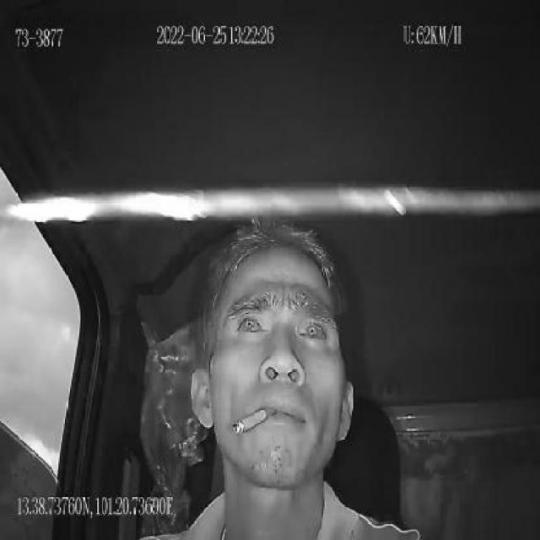smoking: (232, 406, 274, 436)
